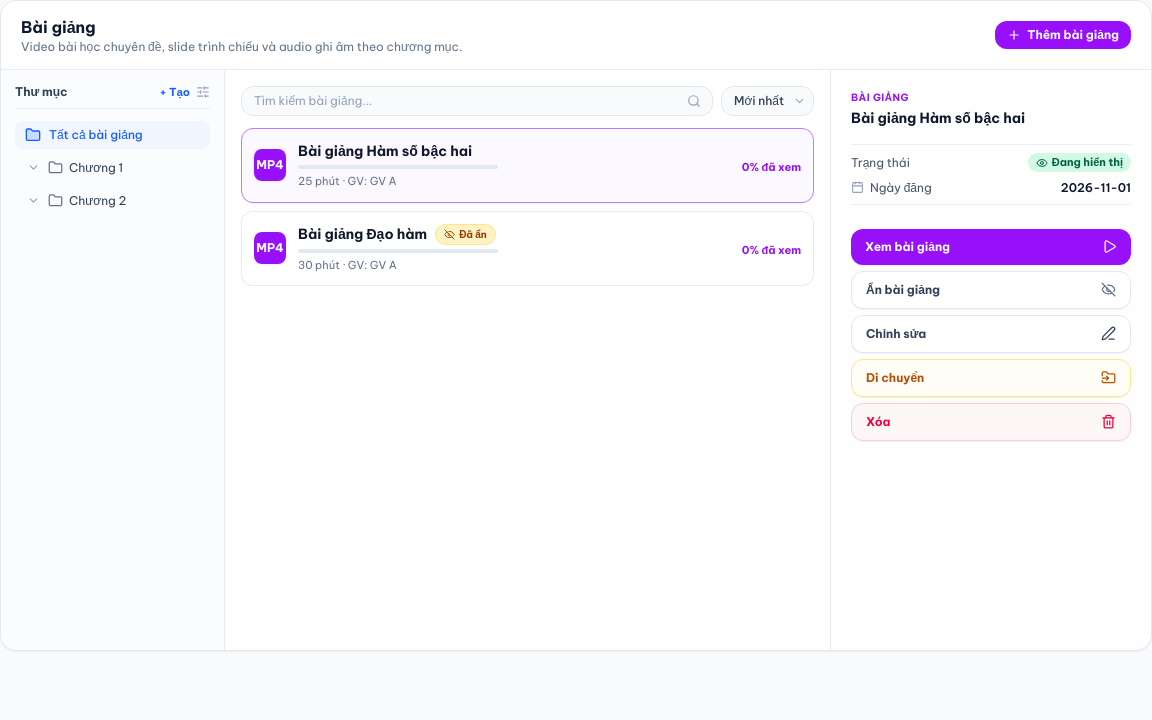
Test: C06b Instructor Lectures & Materials tabs state isolation › cô lập state tìm kiếm và sắp xếp trong InstructorLecturesTab (0 re-render cha khi gõ)
Later steps or results of the test are not shown.
Type "Đạo hàm" into the field with placeholder "Tìm kiếm bài giảng..." at (477, 101), box [241,86,713,116]
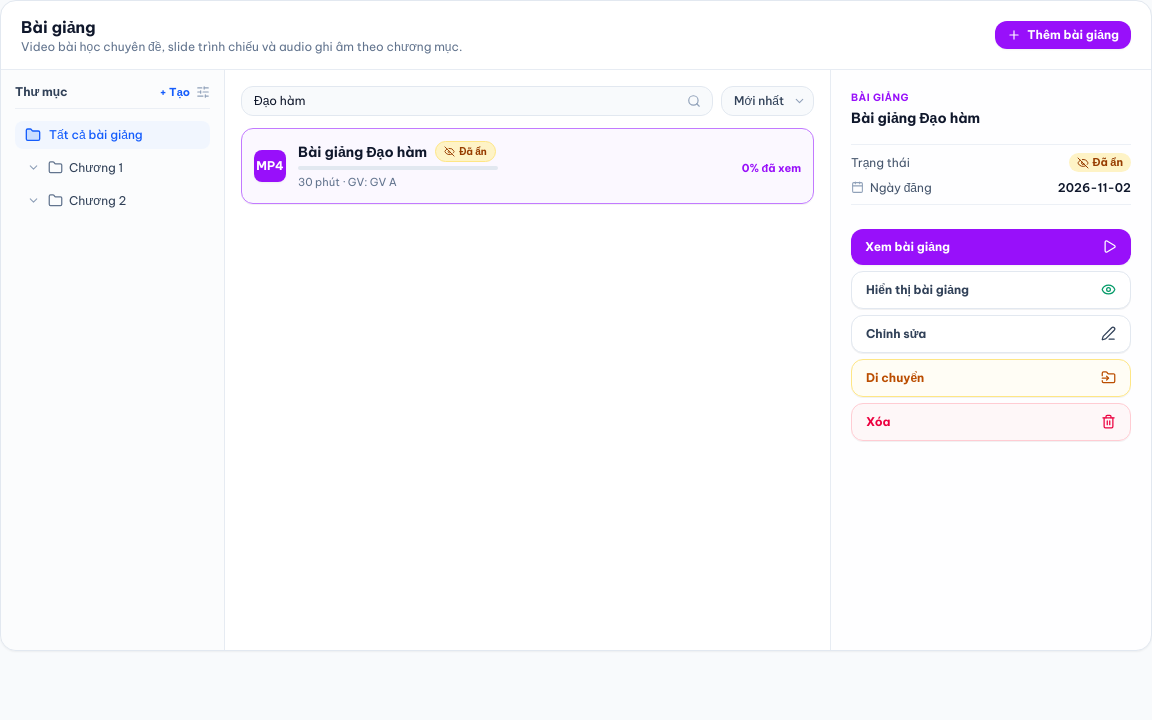
Expected: the text "Bài giảng Hàm số bậc hai" is gone
